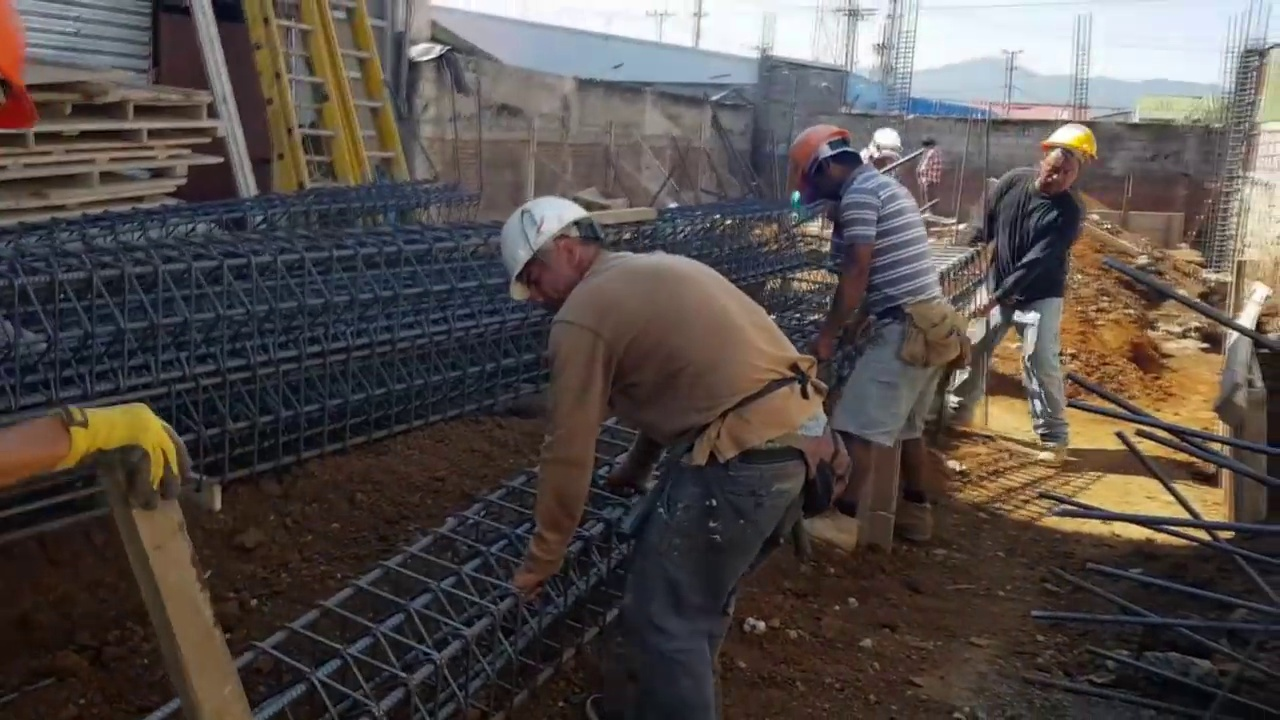helmet: (500, 197, 592, 303), (787, 123, 851, 193), (1042, 119, 1100, 162), (872, 128, 906, 151)
helmet-off: (919, 132, 940, 152)
helmet-on: (500, 188, 622, 307), (786, 124, 871, 207), (1026, 124, 1102, 194), (870, 128, 905, 162)
person: (495, 178, 851, 663), (801, 120, 959, 559), (963, 109, 1103, 456), (916, 130, 943, 217)
